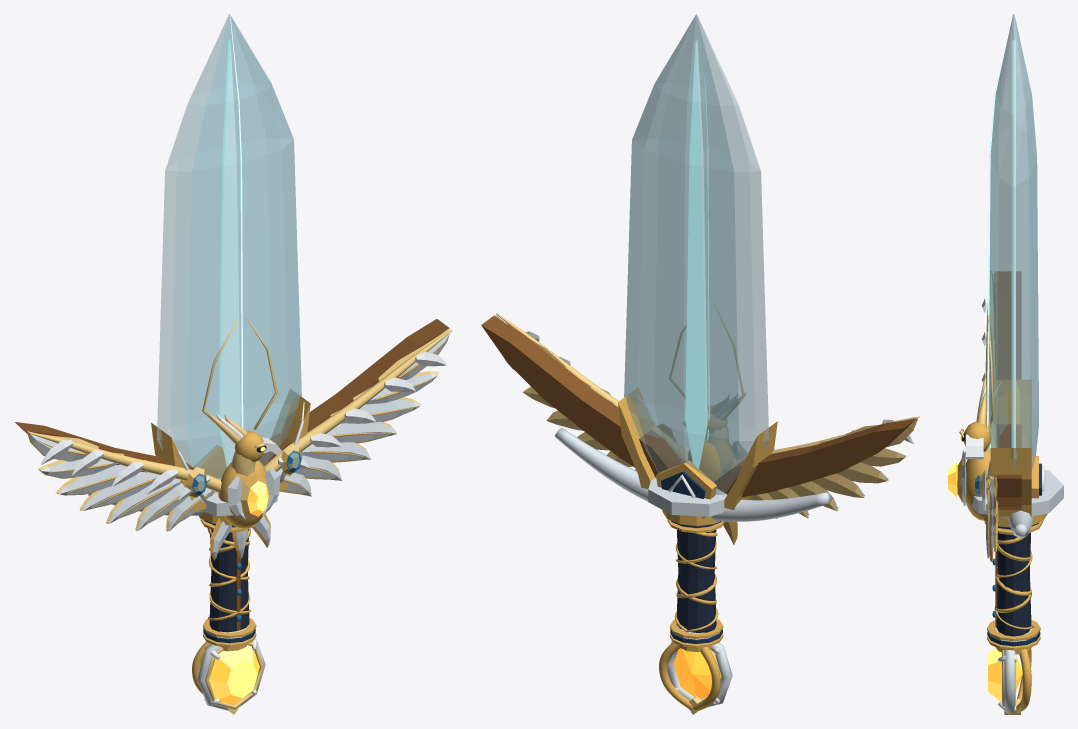
The picture shows the model from 3 angles, left to right: view 1: azimuth 30°, elevation 25°; view 2: azimuth 150°, elevation 25°; view 3: azimuth 270°, elevation 25°; orthographic projection.
Visible parts, largest first — view 1: Blade | colossal diamond crystal, Blade | internal luminous diamond spine, Phoenix Left | solid gold wing skeleton, Grip | tapered royal leather core, Pommel | huge radiant faceted sunstone core, Phoenix Left | gilded leading edge, Phoenix Right | gilded leading edge, Blade | left gold talon socket, Phoenix Right | primary 04 platinum vane, Phoenix | gilded breast, Phoenix Right | solid gold wing skeleton, Phoenix Left | primary 04 platinum vane (+9 smaller); view 2: Blade | colossal diamond crystal, Phoenix Left | solid gold wing skeleton, Blade | internal luminous diamond spine, Phoenix Right | solid gold wing skeleton, Guard | structural platinum crescent, Grip | tapered royal leather core, Blade | left gold talon socket, Blade | octagonal seated tang collar, Pommel | huge radiant faceted sunstone core, Blade | right gold talon socket, Pommel | heavy open platinum bezel, Phoenix | gilded breast (+6 smaller); view 3: Blade | colossal diamond crystal, Phoenix Right | solid gold wing skeleton, Grip | tapered royal leather core, Blade | internal luminous diamond spine, Blade | right gold talon socket, Blade | left gold talon socket, Blade | octagonal seated tang collar, Phoenix Left | solid gold wing skeleton, Phoenix | gilded breast, Blade | bright front crystal arris, Pommel | huge radiant faceted sunstone core, Pommel | heavy open platinum bezel (+14 smaller).
Boxes of the visible parts, box(x1,y1,x2,y2) form: Blade | colossal diamond crystal: box(157, 14, 301, 492); Blade | internal luminous diamond spine: box(218, 40, 240, 467); Phoenix Left | solid gold wing skeleton: box(259, 319, 448, 465); Grip | tapered royal leather core: box(209, 529, 249, 632); Pommel | huge radiant faceted sunstone core: box(209, 645, 259, 704); Phoenix Left | gilded leading edge: box(264, 329, 452, 471); Phoenix Right | gilded leading edge: box(29, 432, 221, 492); Blade | left gold talon socket: box(271, 389, 310, 490); Phoenix Right | primary 04 platinum vane: box(82, 472, 159, 510); Phoenix | gilded breast: box(218, 460, 266, 528); Phoenix Right | solid gold wing skeleton: box(15, 422, 194, 469); Phoenix Left | primary 04 platinum vane: box(326, 422, 397, 442); Blade | colossal diamond crystal: box(624, 14, 769, 494); Phoenix Left | solid gold wing skeleton: box(481, 316, 682, 477); Blade | internal luminous diamond spine: box(685, 40, 707, 468); Phoenix Right | solid gold wing skeleton: box(714, 419, 915, 497); Guard | structural platinum crescent: box(554, 428, 831, 521); Grip | tapered royal leather core: box(676, 530, 716, 632); Blade | left gold talon socket: box(618, 388, 655, 489); Blade | octagonal seated tang collar: box(648, 477, 727, 516); Pommel | huge radiant faceted sunstone core: box(673, 648, 721, 698); Blade | right gold talon socket: box(724, 421, 777, 509); Pommel | heavy open platinum bezel: box(667, 642, 732, 707); Phoenix | gilded breast: box(688, 438, 735, 481); Blade | colossal diamond crystal: box(988, 14, 1038, 471); Phoenix Right | solid gold wing skeleton: box(996, 271, 1021, 447); Grip | tapered royal leather core: box(996, 532, 1031, 636); Blade | internal luminous diamond spine: box(1011, 40, 1015, 447); Blade | right gold talon socket: box(992, 380, 1031, 447); Blade | left gold talon socket: box(990, 448, 1031, 516); Blade | octagonal seated tang collar: box(971, 470, 1063, 518); Phoenix Left | solid gold wing skeleton: box(996, 475, 1021, 509); Phoenix | gilded breast: box(965, 451, 990, 520); Blade | bright front crystal arris: box(987, 14, 1012, 449); Pommel | huge radiant faceted sunstone core: box(988, 648, 1022, 701); Pommel | heavy open platinum bezel: box(1004, 649, 1015, 713).
Bounding box in the file's own units: 1.27 × 2 × 0.2996.
